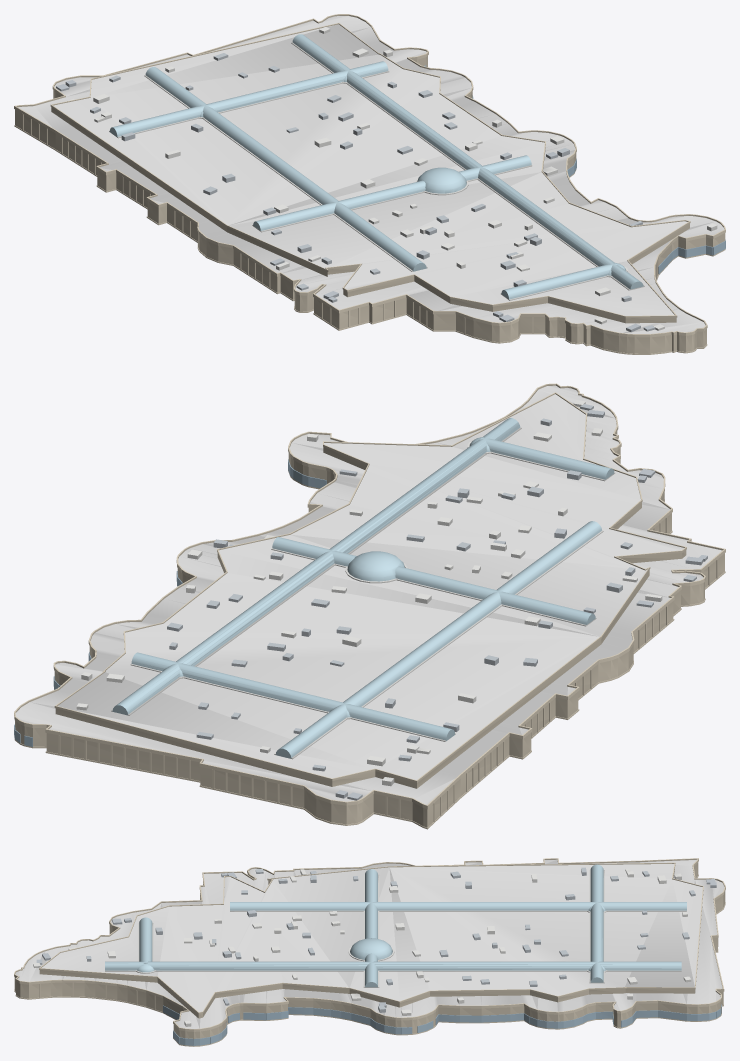
File: dubai_mall.glb
3 views of the same model, one above another, from view 1: azimuth 30°, elevation 25°; view 2: azimuth 150°, elevation 25°; view 3: azimuth 270°, elevation 25° (orthographic). The views are drawn at different scales.
Visible parts, largest first — view 1: dubai_mall; view 2: dubai_mall; view 3: dubai_mall.
Part boxes in pixels (bbox=[...]): dubai_mall: bbox=[14, 14, 725, 354]; dubai_mall: bbox=[14, 383, 725, 829]; dubai_mall: bbox=[14, 858, 725, 1046].
Size of the model in its own units: 450 by 39.68 by 791.
